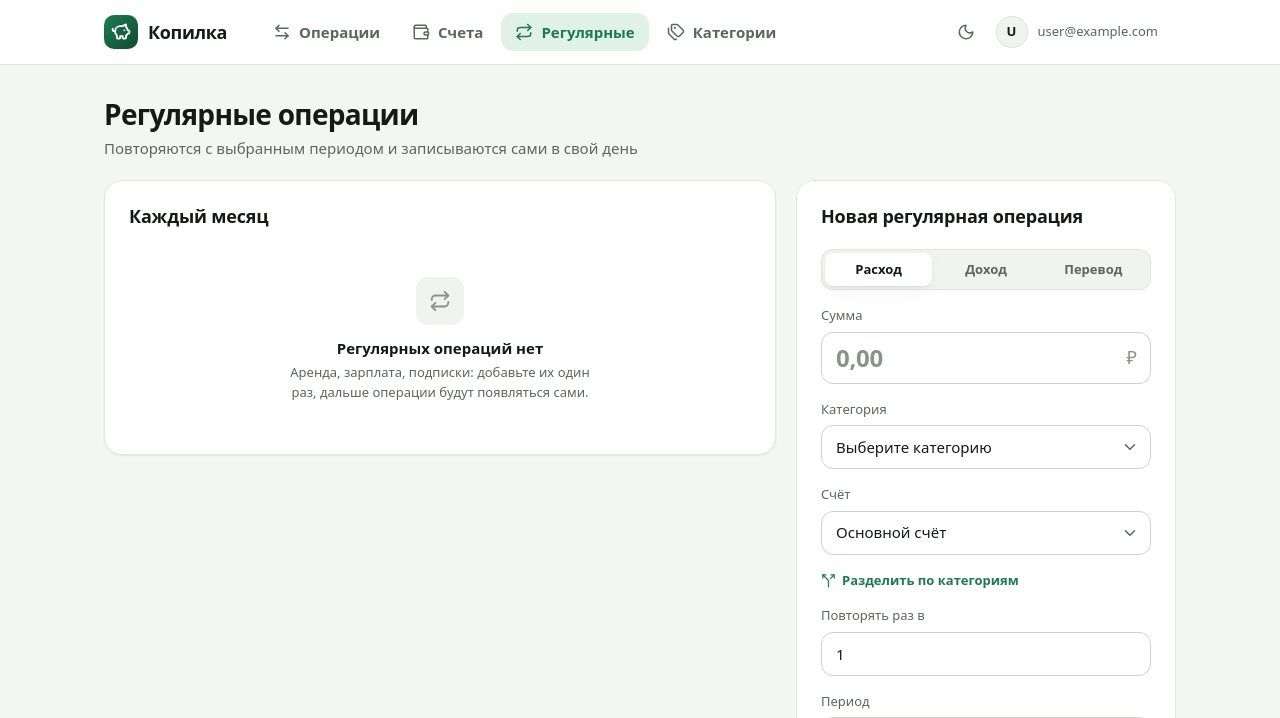
it: RecurringPage › creates a rule that repeats every two weeks
This screenshot has width=1280, height=718.
In the field labelled "Сумма": coordinates (986, 358) [821,332,1151,384], type "500"
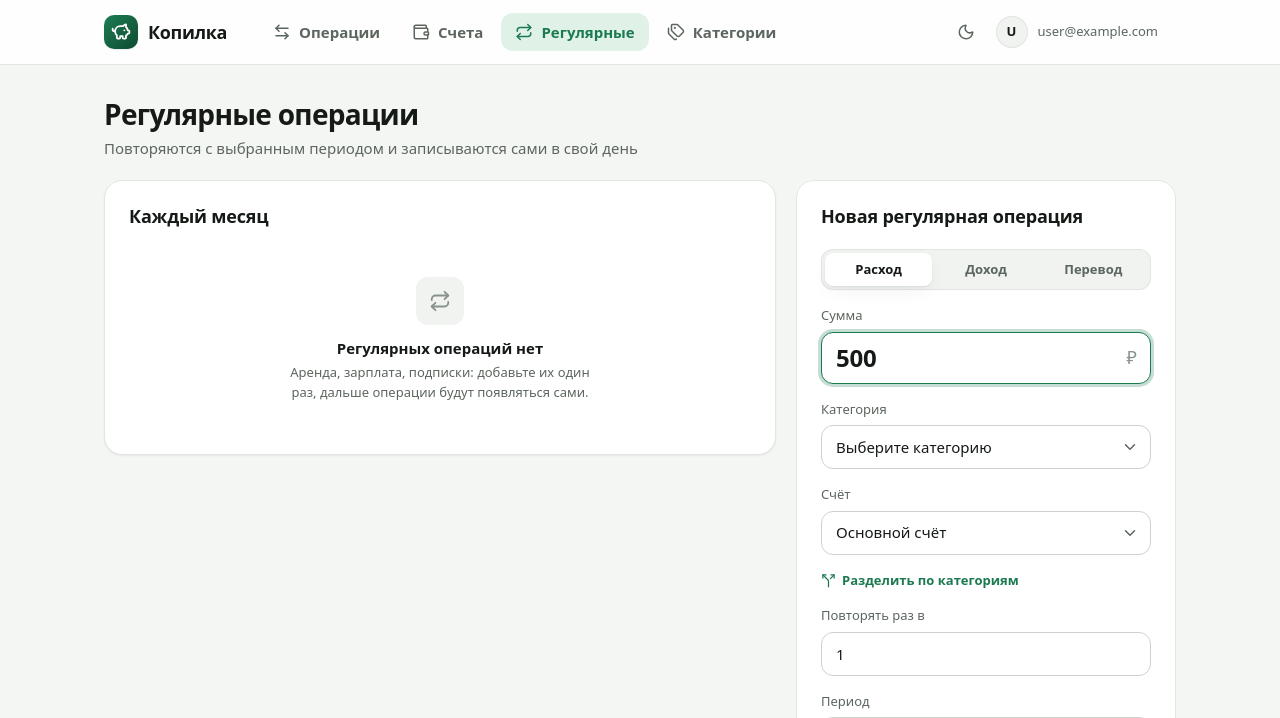
Select "Жильё" in the dropdown labelled "Категория": coordinates (986, 447) [821,425,1151,469]
(page scrolled)
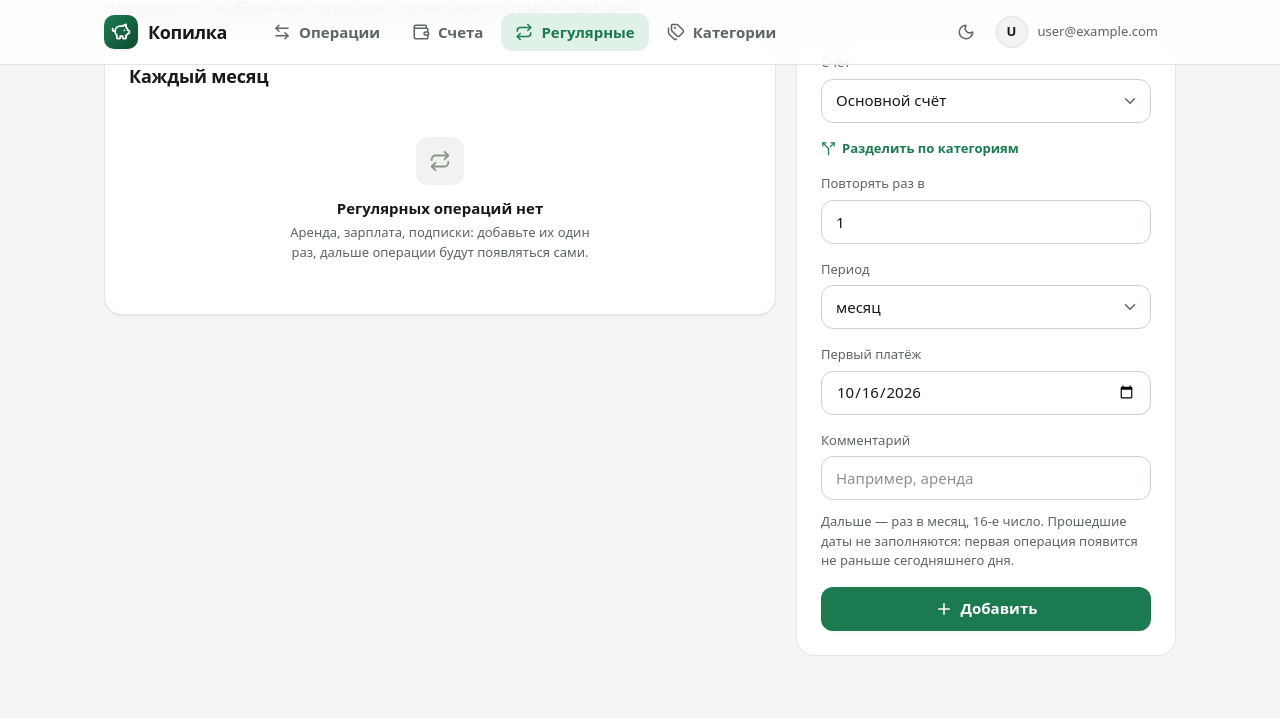
In the date field labelled "Первый платёж": coordinates (986, 392) [821,370,1151,414], type "2026-11-05"
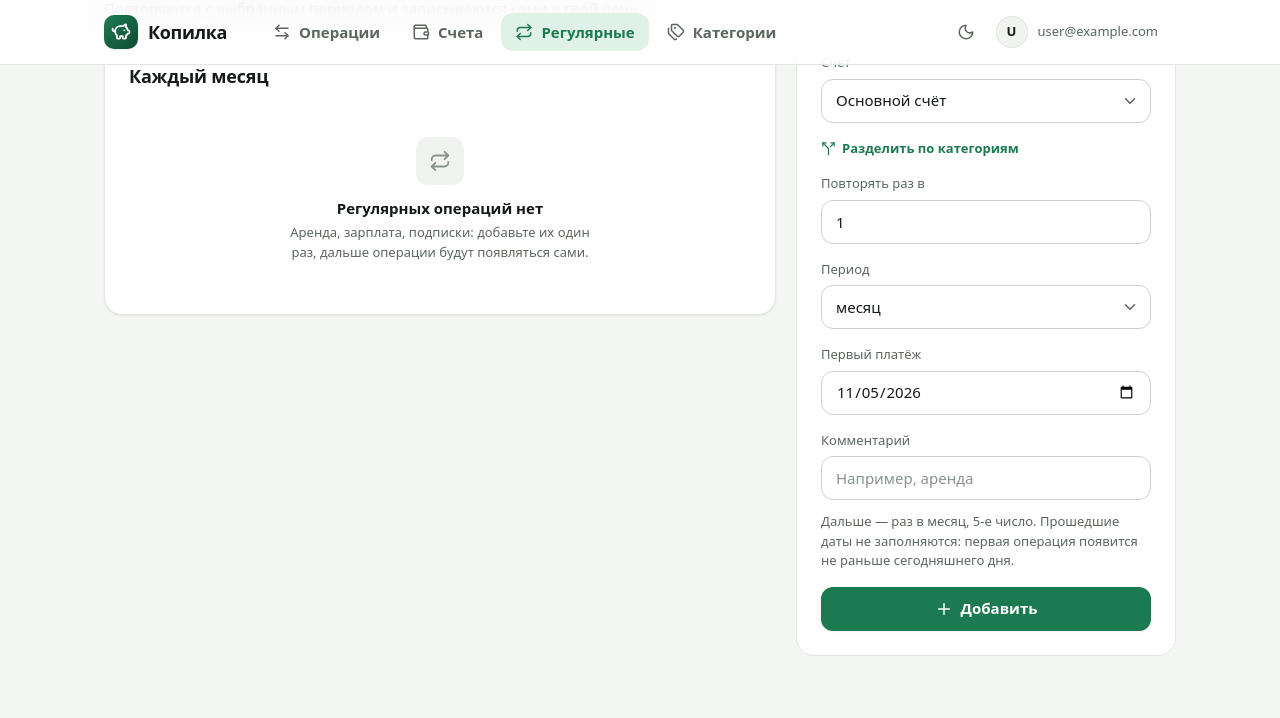
Replace the text in the number field labelled "Повторять раз в" with "2": coordinates (986, 222) [821,200,1151,244]
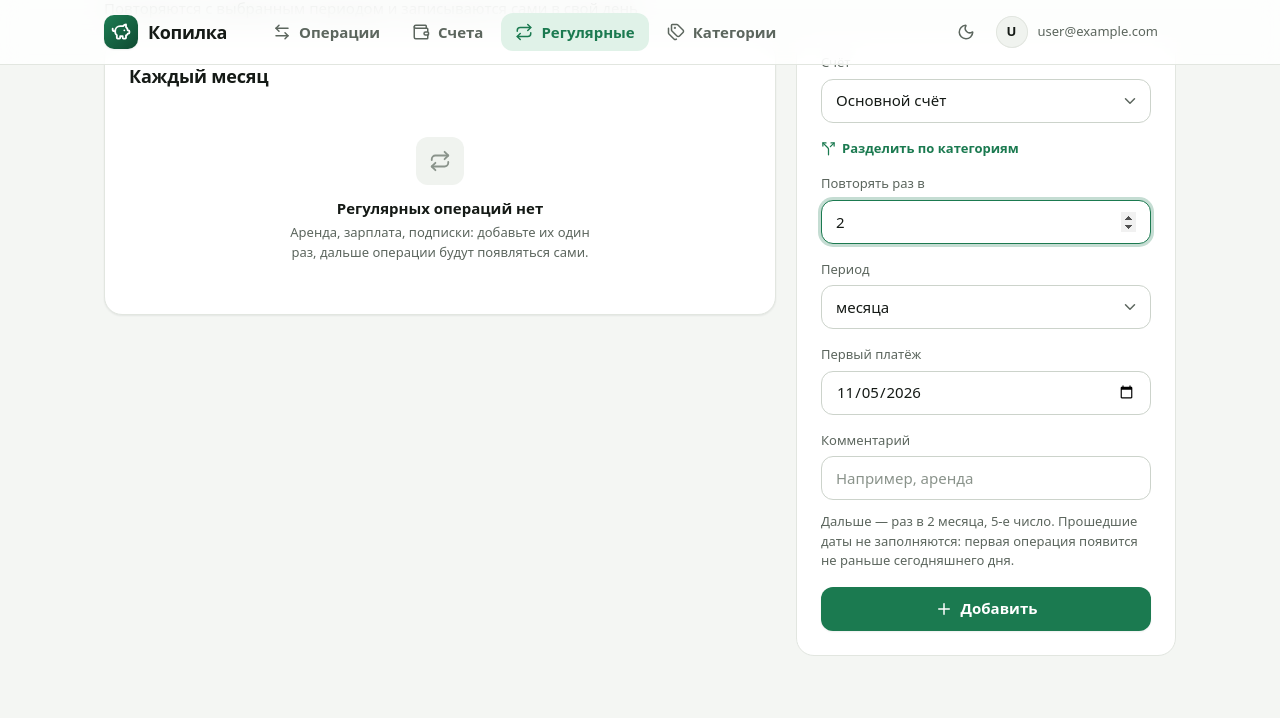
# The unit reads as the count asks: "недели", not "неделю".
Select "недели" in the dropdown labelled "Период": coordinates (986, 307) [821,285,1151,329]
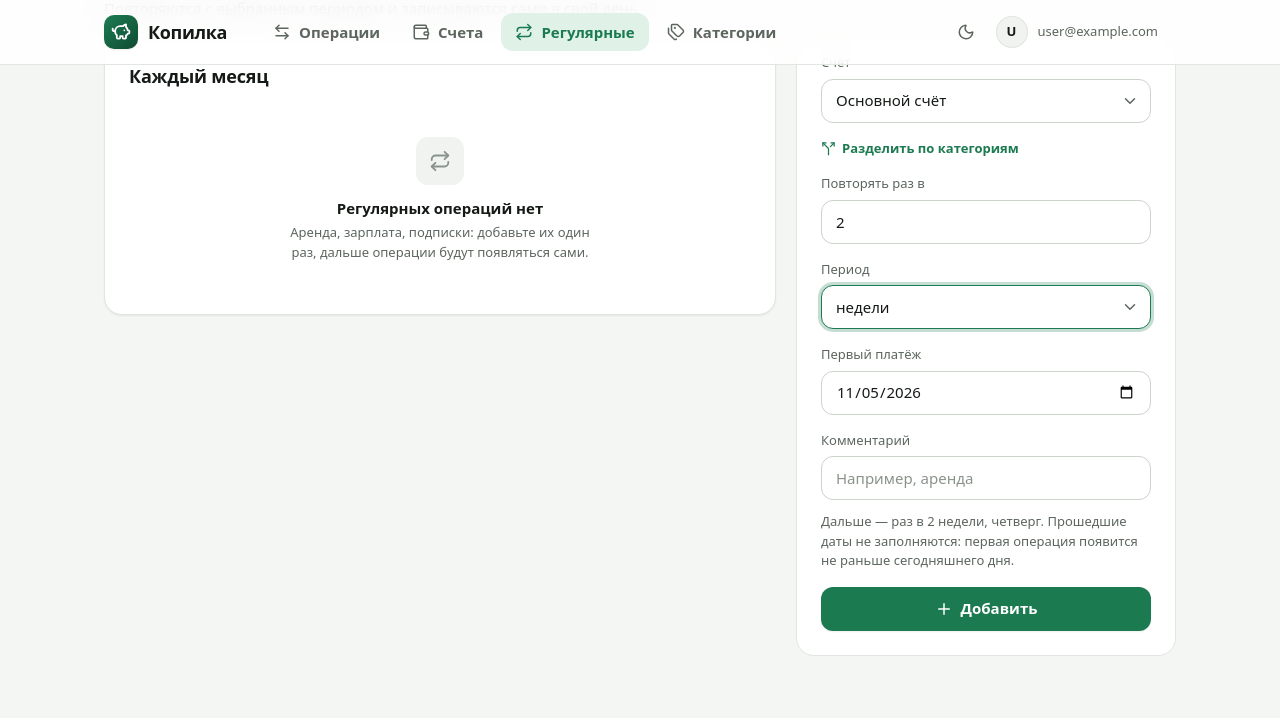
Check: the text "раз в 2 недели, четверг" is shown, box [891,512,1041,530]
Click the button "Добавить": coordinates (986, 608) [821,586,1151,630]
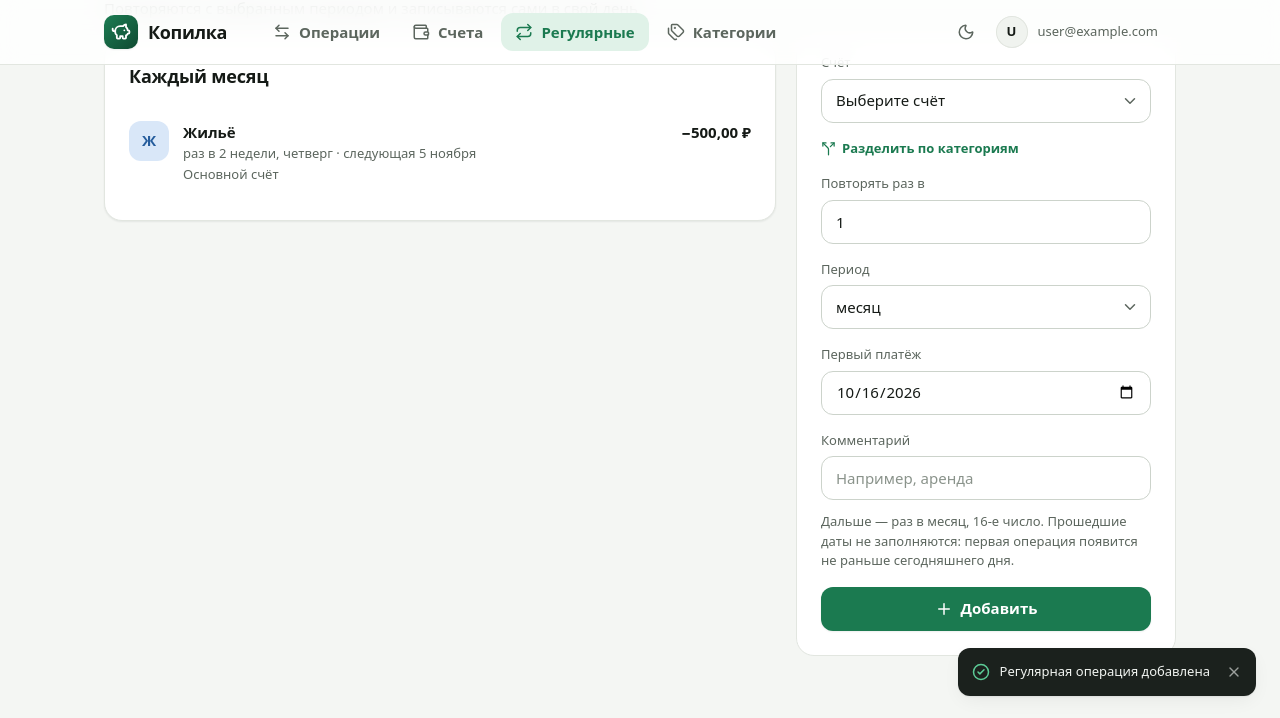
Check: the text "Регулярная операция добавлена" is shown, box [1000,662,1210,682]
